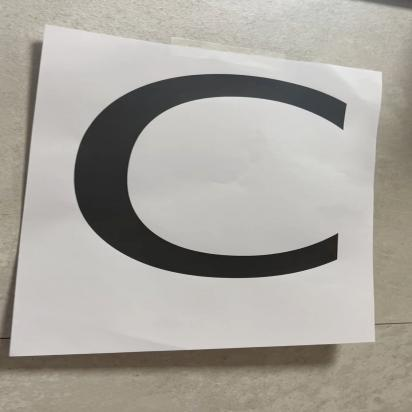seat: (25, 18, 380, 359)
